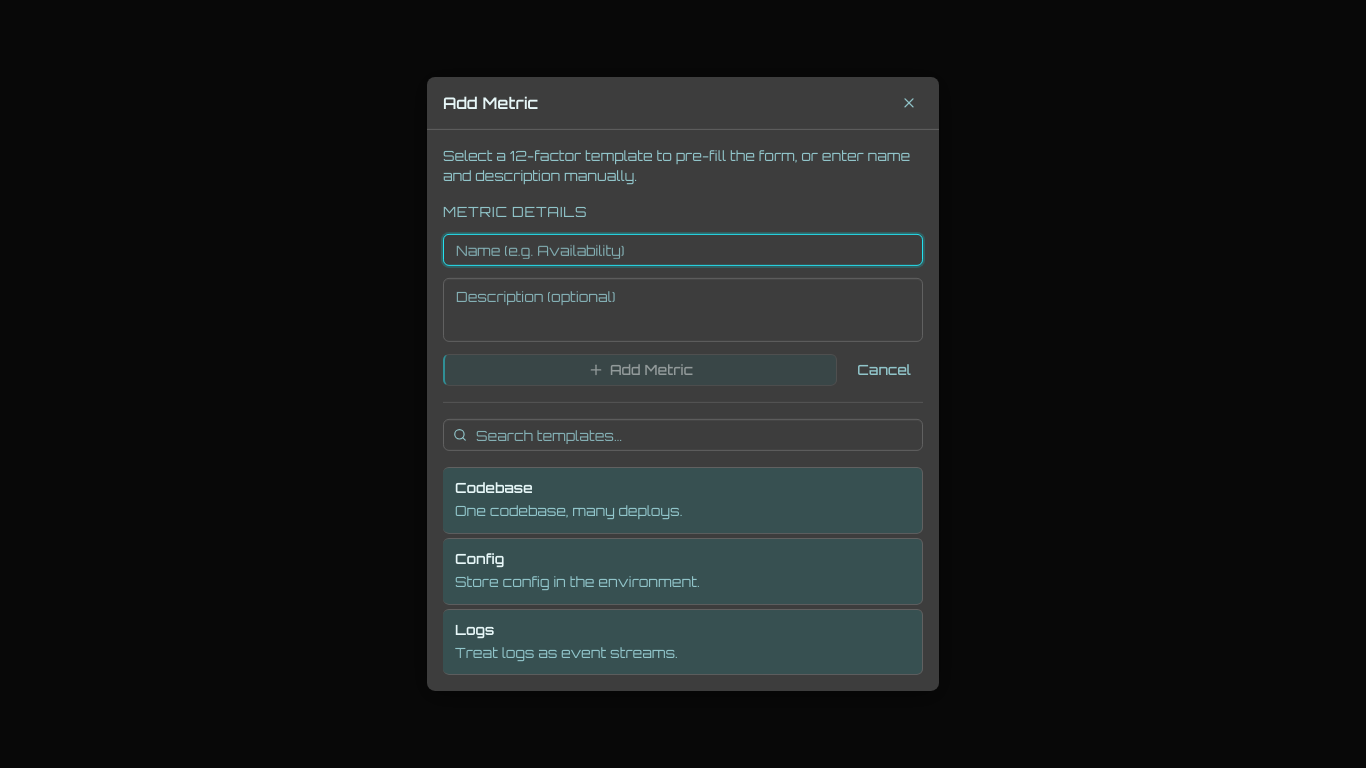
Scenario: MetricTemplateSelector › filters templates by name
Check: the text "Codebase" is shown, box [455,479,533,496]
In the field with placeholder "Search templates…": (683, 435) [443,419,923,451], type "log"
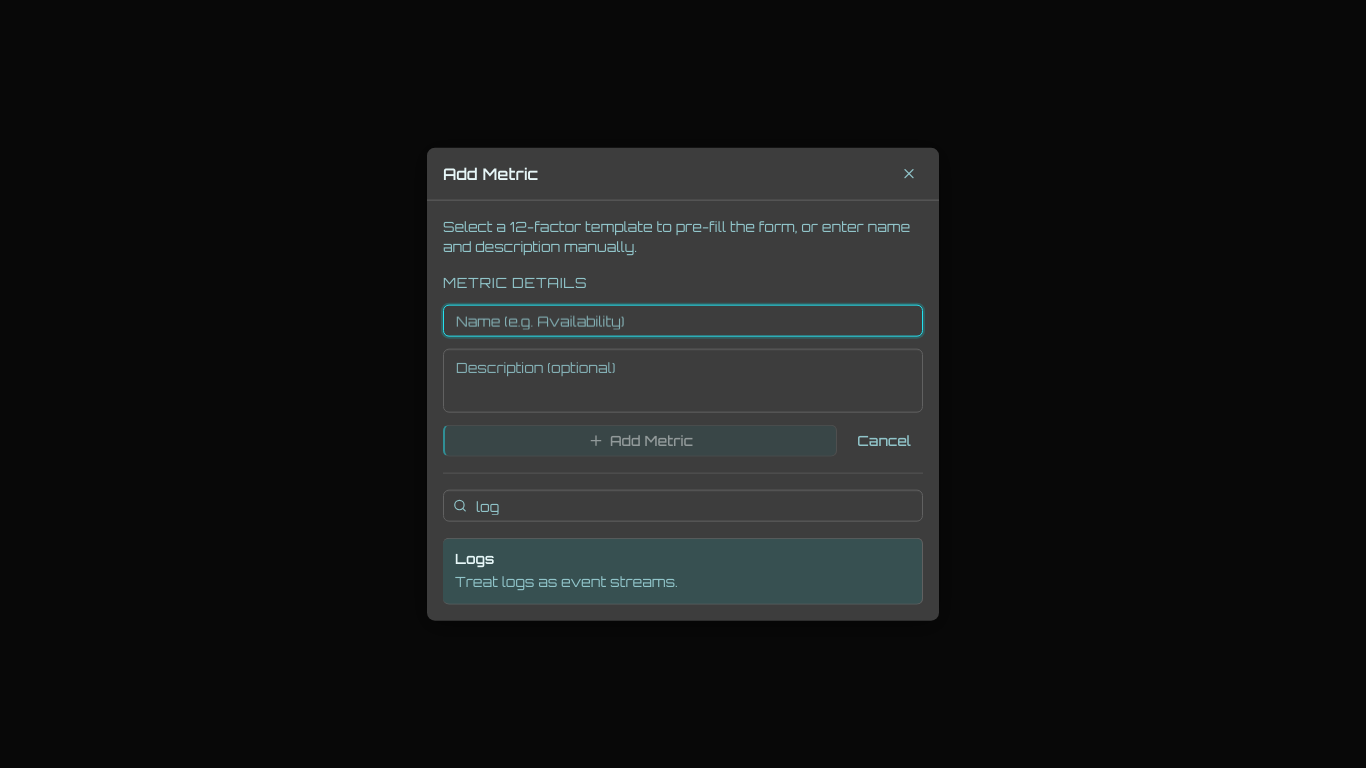
Check: the text "Logs" is shown, box [455,550,494,567]
Check: the button "Codebase" is gone
Check: the button "Config" is gone
